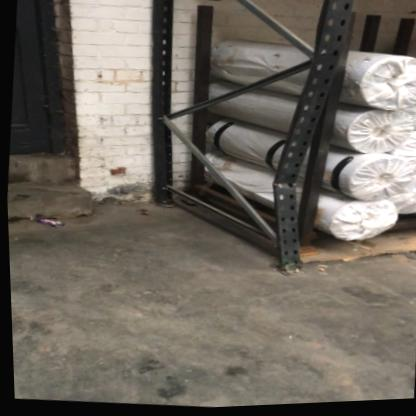vertical_damage: (250, 109, 335, 231)
